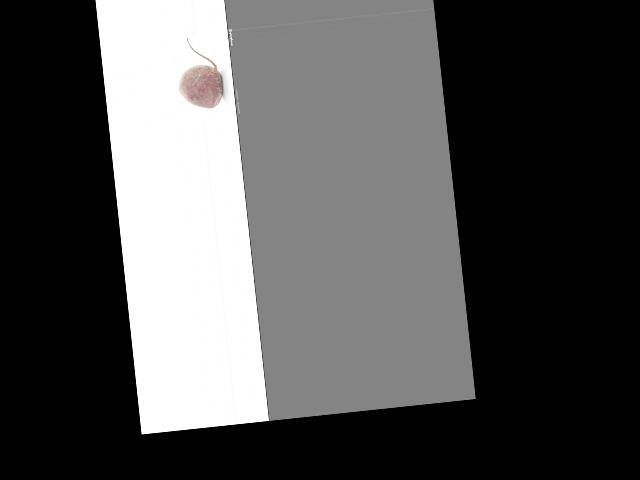beet: (174, 34, 225, 111)
